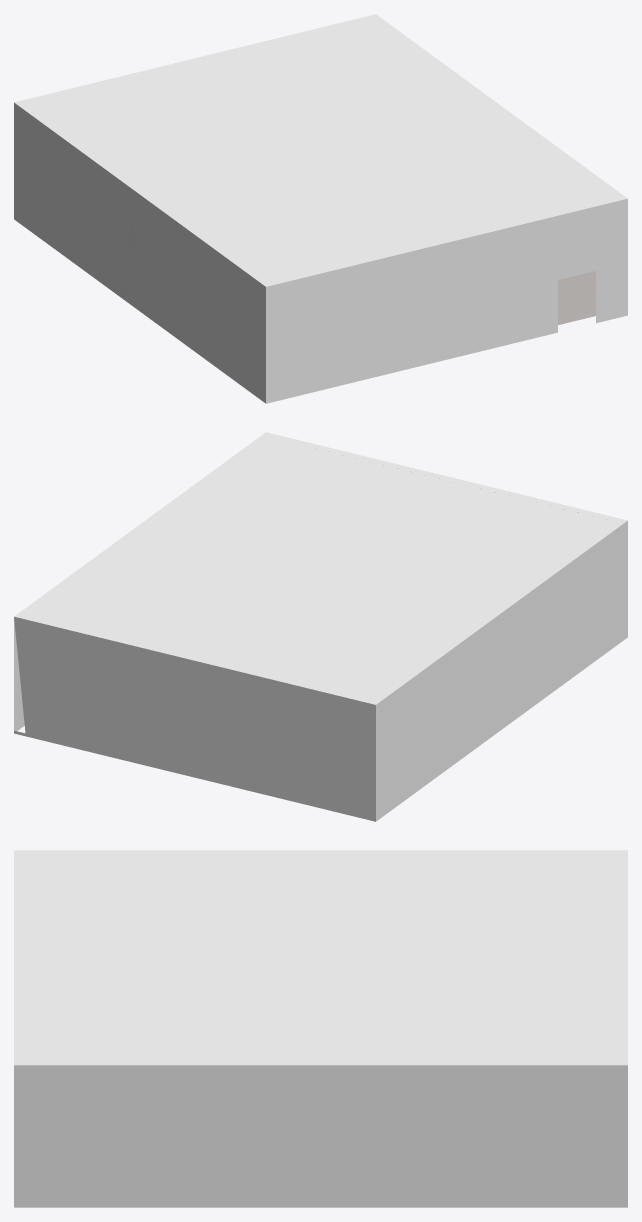
File: Empty Room Ria 1.fbx
The picture shows the model from 3 angles, top to bottom: view 1: azimuth 30°, elevation 25°; view 2: azimuth 150°, elevation 25°; view 3: azimuth 270°, elevation 25°; orthographic projection. The views are drawn at different scales.
Parts seen in each view (by area): view 1: Model; view 2: Model; view 3: Model.
Part boxes in pixels (x1,y1,x2,y2): Model: (14, 14, 627, 403); Model: (14, 432, 627, 821); Model: (14, 850, 627, 1207).
Size of the model in its own units: 1432 by 442 by 1728.
